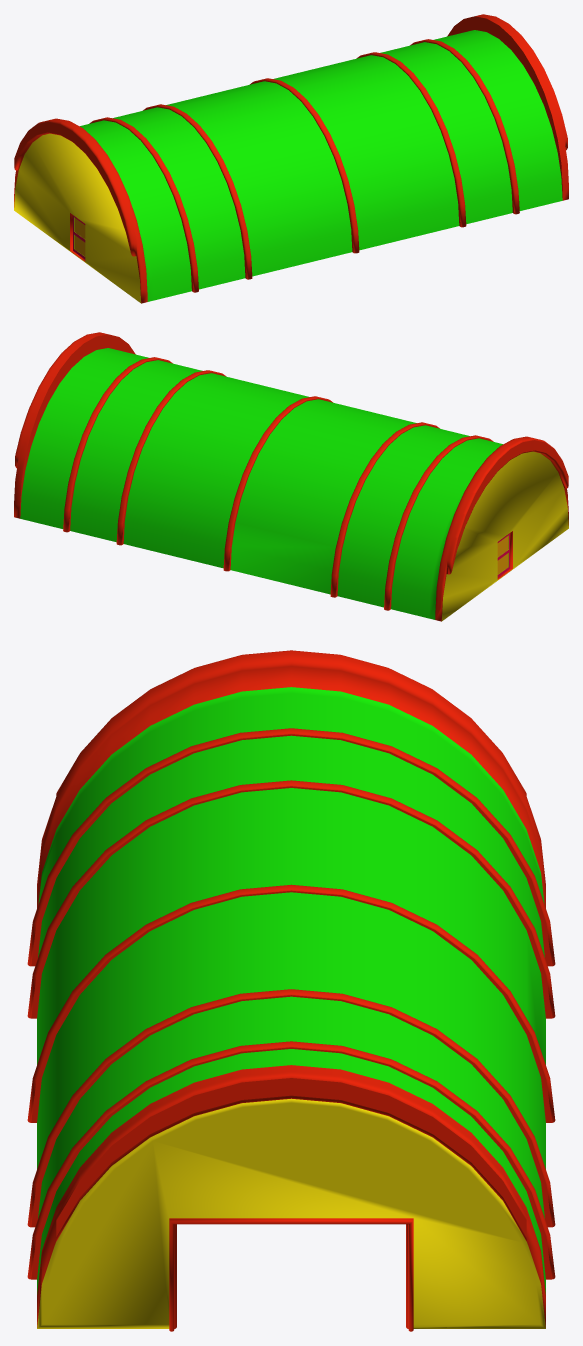
Rendered from SM_Hangar.fbx.
3 renders of one model, top to bottom at view 1: azimuth 30°, elevation 25°; view 2: azimuth 150°, elevation 25°; view 3: azimuth 270°, elevation 25°, orthographic. The views are drawn at different scales.
Visible parts, largest first — view 1: SM_Hangar, SM_HangarDoor; view 2: SM_Hangar, SM_HangarDoor; view 3: SM_Hangar.
Boxes of the visible parts, box(x1,y1,x2,y2) form: SM_Hangar: box(14, 14, 568, 303); SM_HangarDoor: box(73, 215, 85, 259); SM_Hangar: box(14, 332, 568, 621); SM_HangarDoor: box(497, 533, 509, 577); SM_Hangar: box(27, 650, 555, 1331).
Bounding box in the file's own units: 1762 × 3370 × 950.
